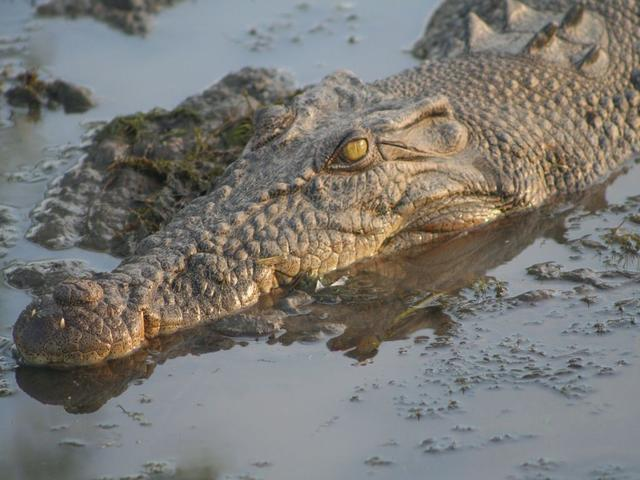crocodile: (27, 1, 632, 405)
